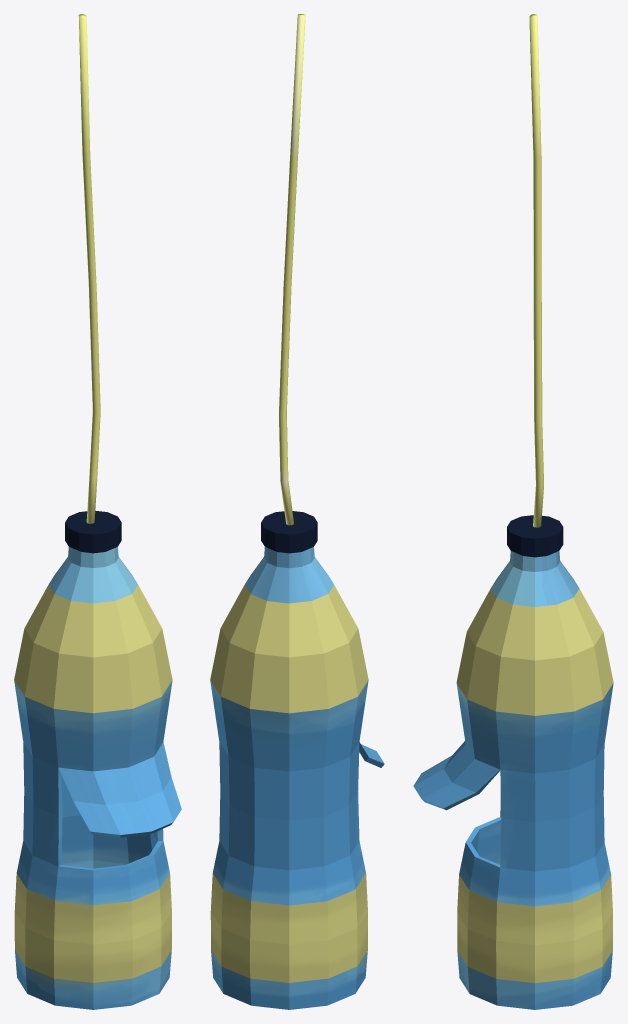
The model's file is Modelado_Botella_001.glb.
3 renders of one model, left to right at view 1: azimuth 30°, elevation 25°; view 2: azimuth 150°, elevation 25°; view 3: azimuth 270°, elevation 25°, orthographic.
Visible parts, largest first — view 1: Trampa_Botella_001, Cuerda_001; view 2: Trampa_Botella_001, Cuerda_001; view 3: Trampa_Botella_001, Cuerda_001.
Boxes of the visible parts, x1,y1,x2,y2 form: Trampa_Botella_001: (14,510,181,1009); Cuerda_001: (78,14,100,523); Trampa_Botella_001: (210,511,384,1009); Cuerda_001: (279,14,305,525); Trampa_Botella_001: (413,515,613,1009); Cuerda_001: (529,14,543,527).
Bounding box in the file's own units: 2 × 13.44 × 2.55.
4 materials, 4 textured.
